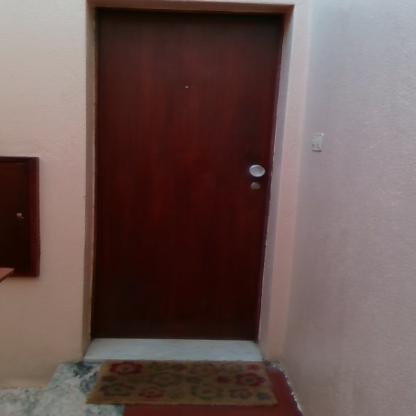door: (93, 9, 274, 350)
knob: (250, 162, 265, 180)
